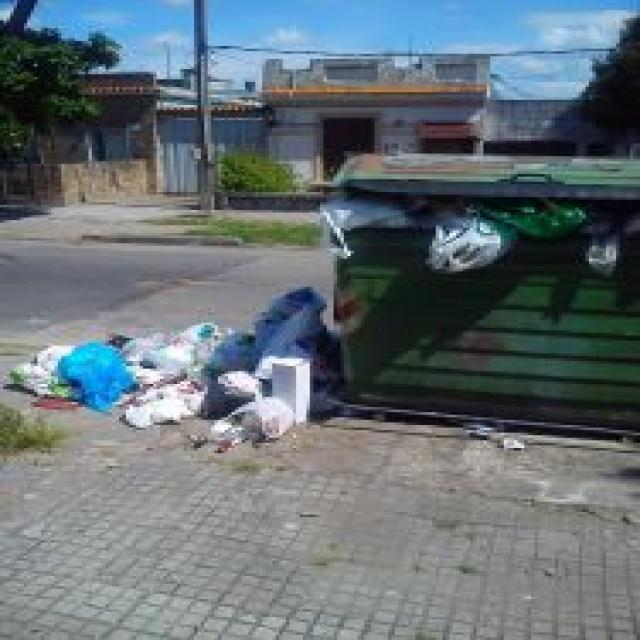garbage: (17, 286, 317, 438), (309, 200, 616, 268)
